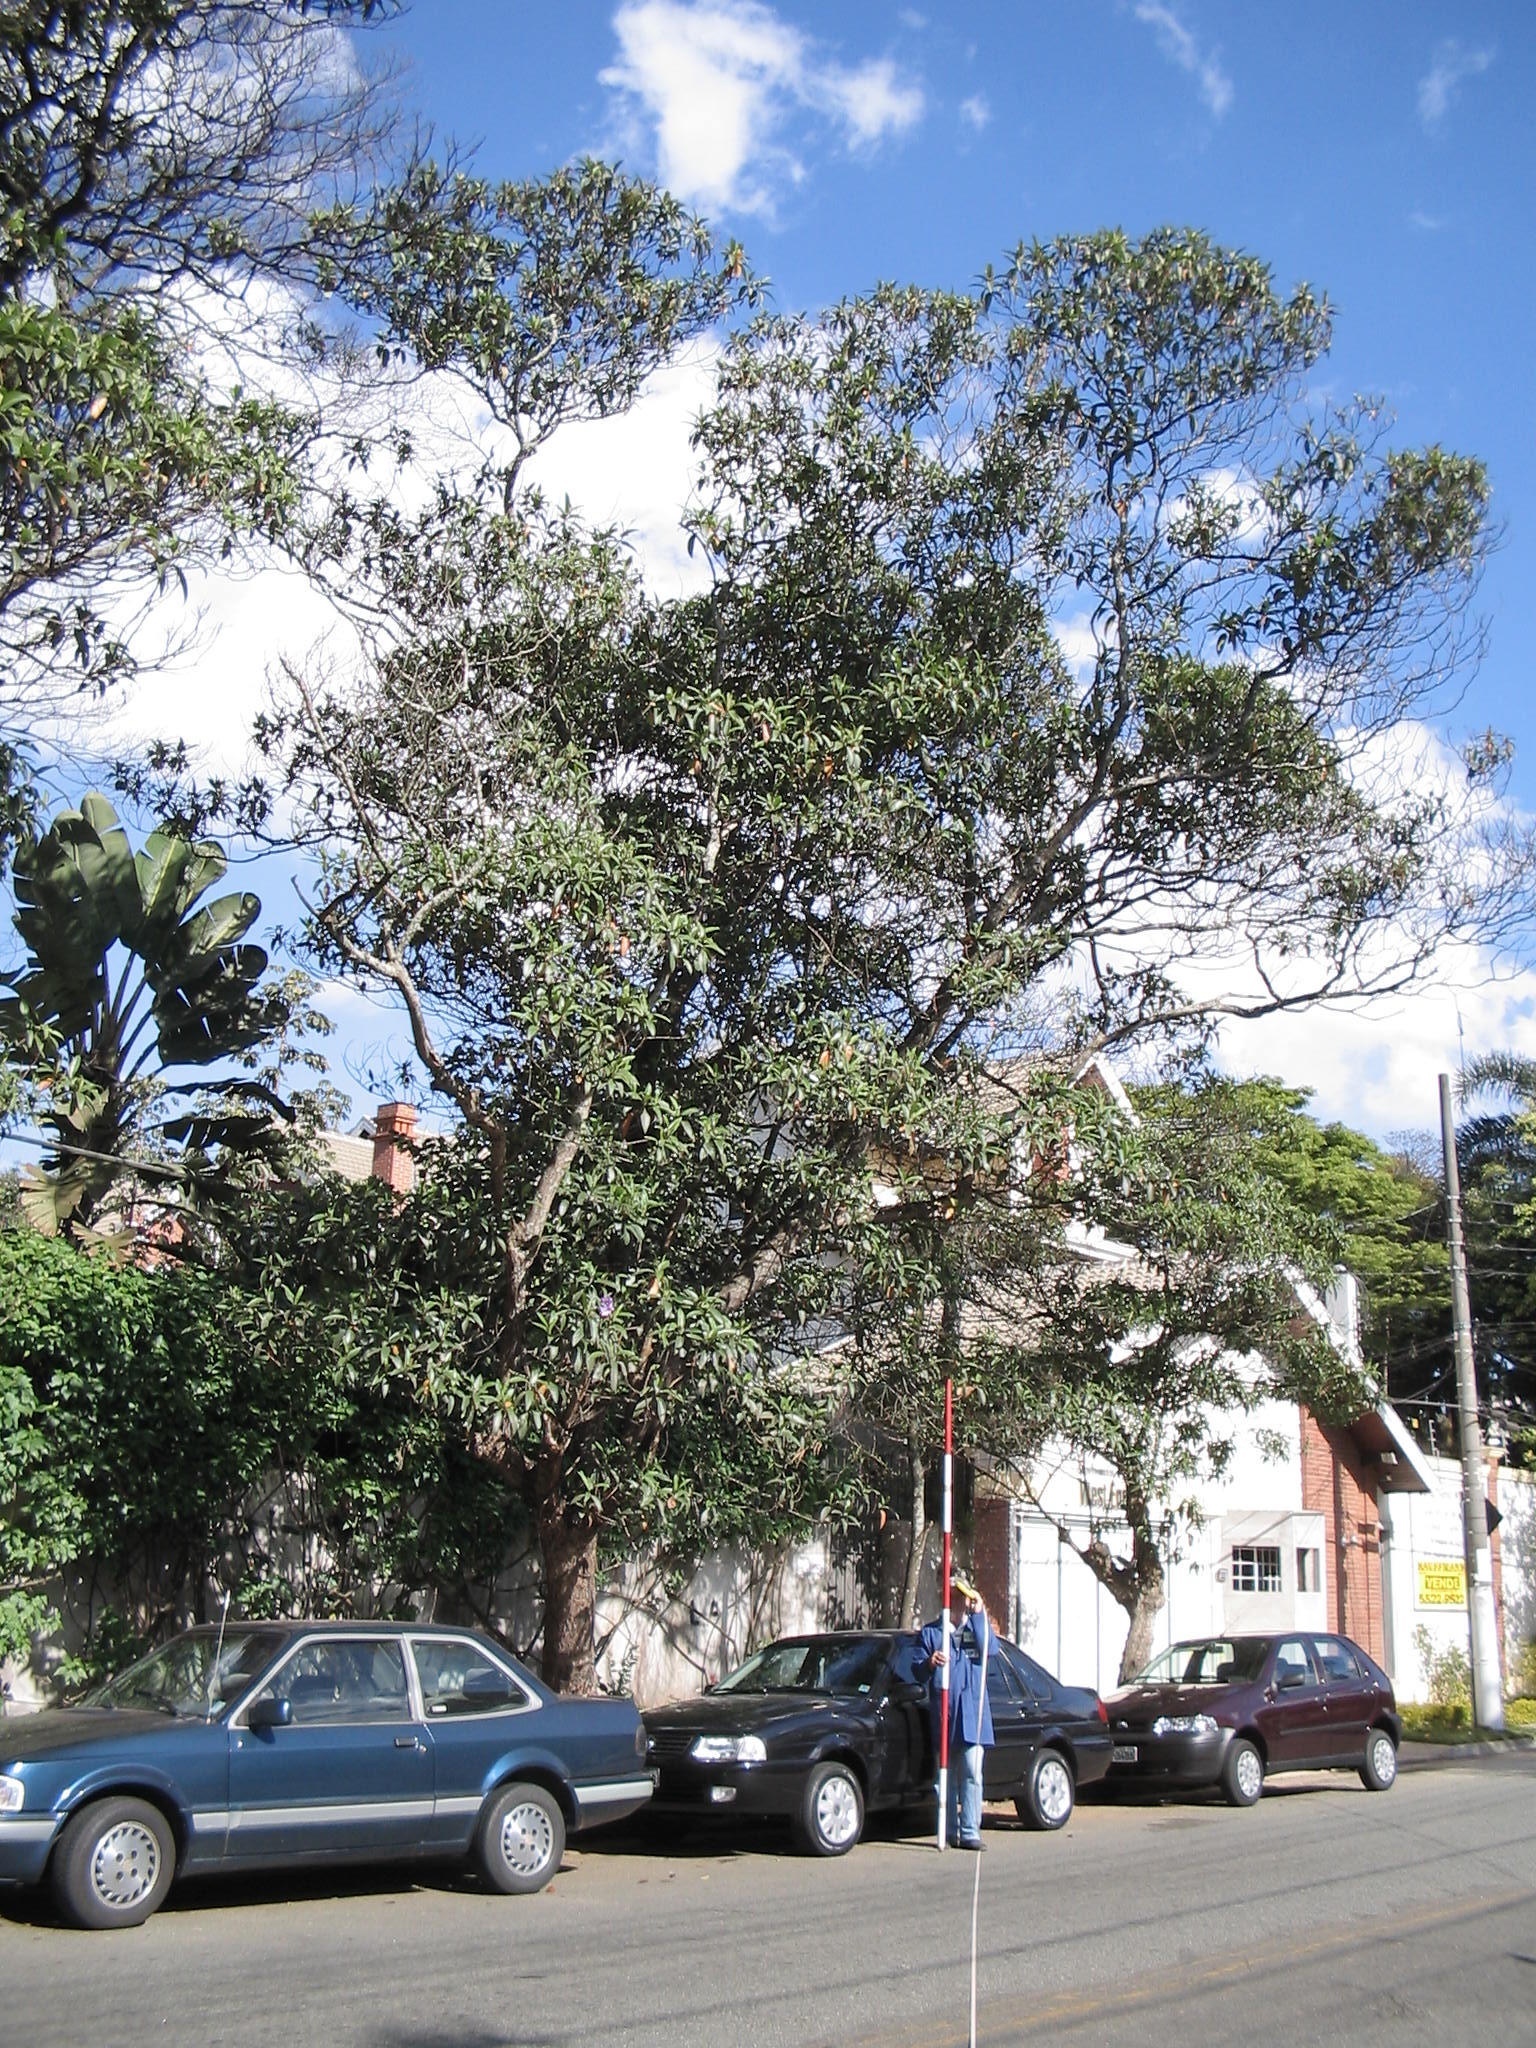crown: (307, 153, 1509, 1596), (965, 1100, 1442, 1561)
stem: (502, 1524, 629, 1696), (1096, 1592, 1183, 1684)
stick: (908, 1379, 986, 1850)
tree: (298, 147, 1517, 1703), (958, 1087, 1449, 1684)
